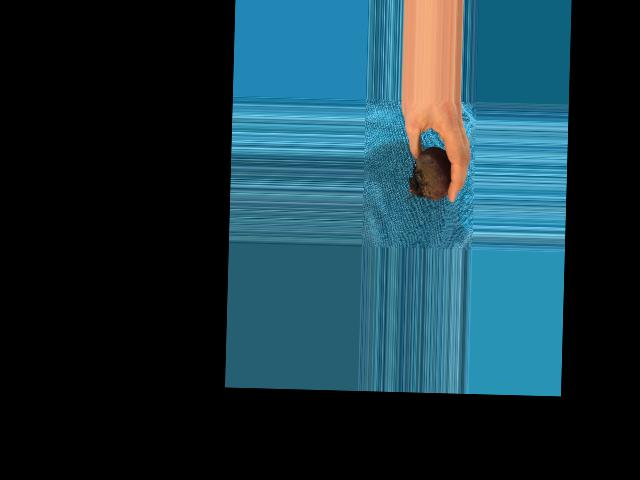beet: (407, 146, 451, 201)
